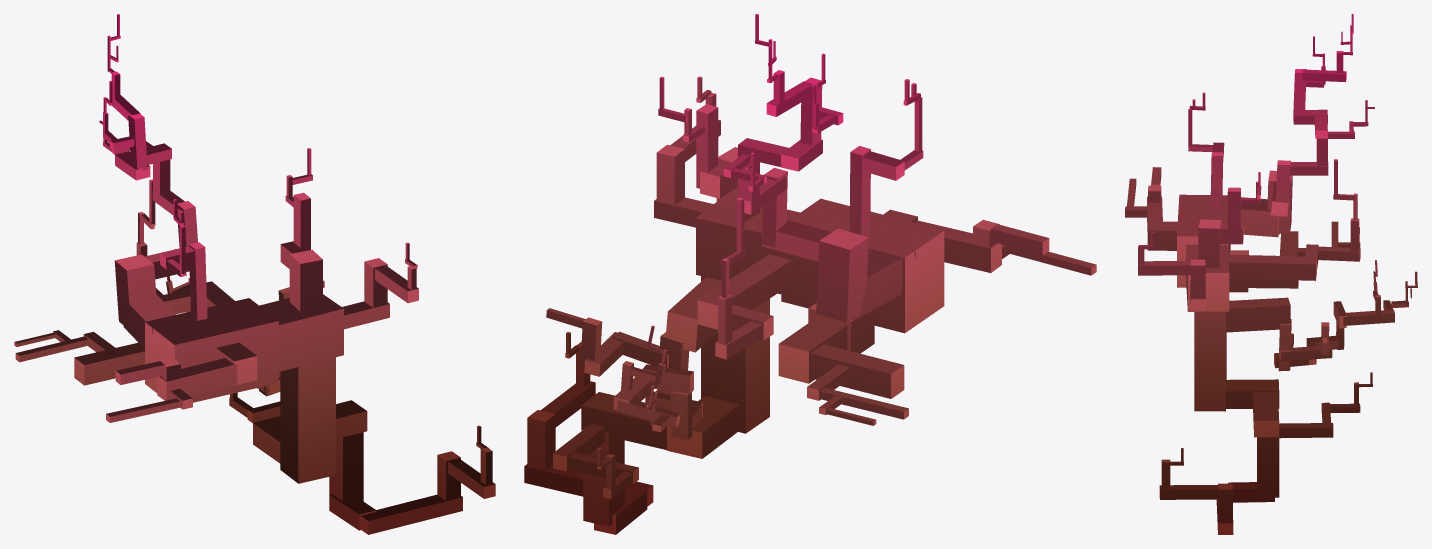
Rendered from SM_Racine Demoniaque 1.FBX.
3 views of the same model, side by side, from view 1: azimuth 30°, elevation 25°; view 2: azimuth 150°, elevation 25°; view 3: azimuth 270°, elevation 25° (orthographic). The views are drawn at different scales.
Visible parts, largest first — view 1: Box183; view 2: Box183; view 3: Box183.
Boxes of the visible parts, bbox=[...] form: Box183: bbox=[14, 14, 495, 534]; Box183: bbox=[524, 14, 1096, 534]; Box183: bbox=[1125, 14, 1417, 534].
Size of the model in its own units: 546 by 643 by 412.
